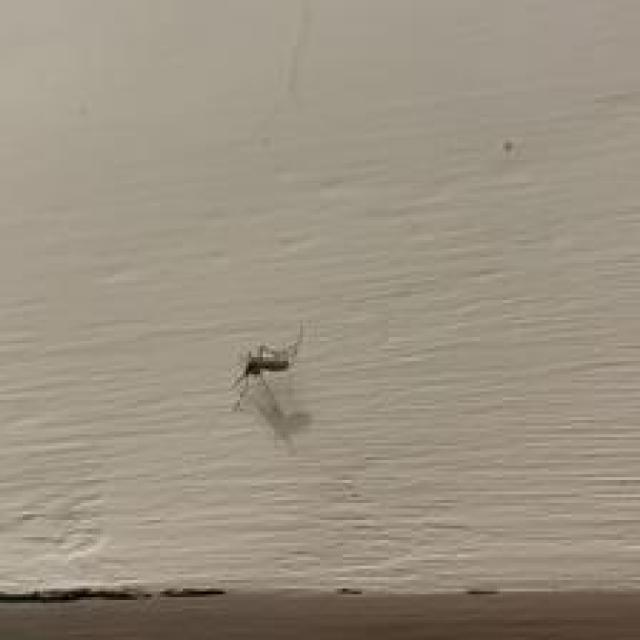Culex: (227, 321, 313, 456)
